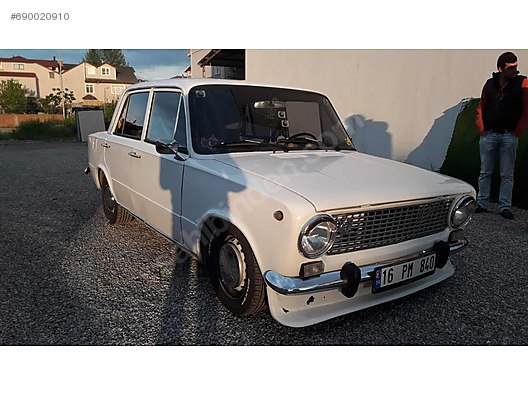murat: (80, 78, 480, 331)
